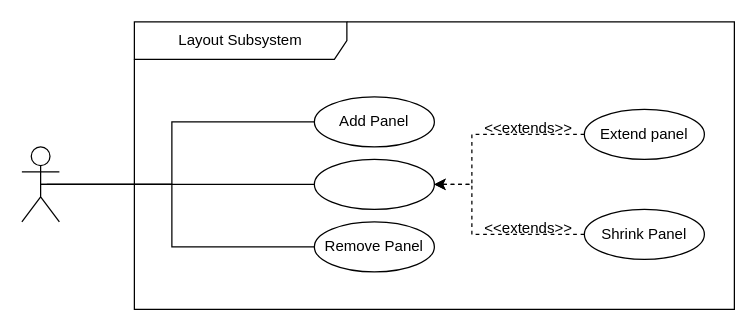
The diagram is 756 pixels wide and 331 high, and some of its shapes have lost their labels. The centre of each missing label's shape, as x and y in pixels:
"Adjust panel dimensions" belongs at pixel 373 183.
"User" belongs at pixel 40 184.
